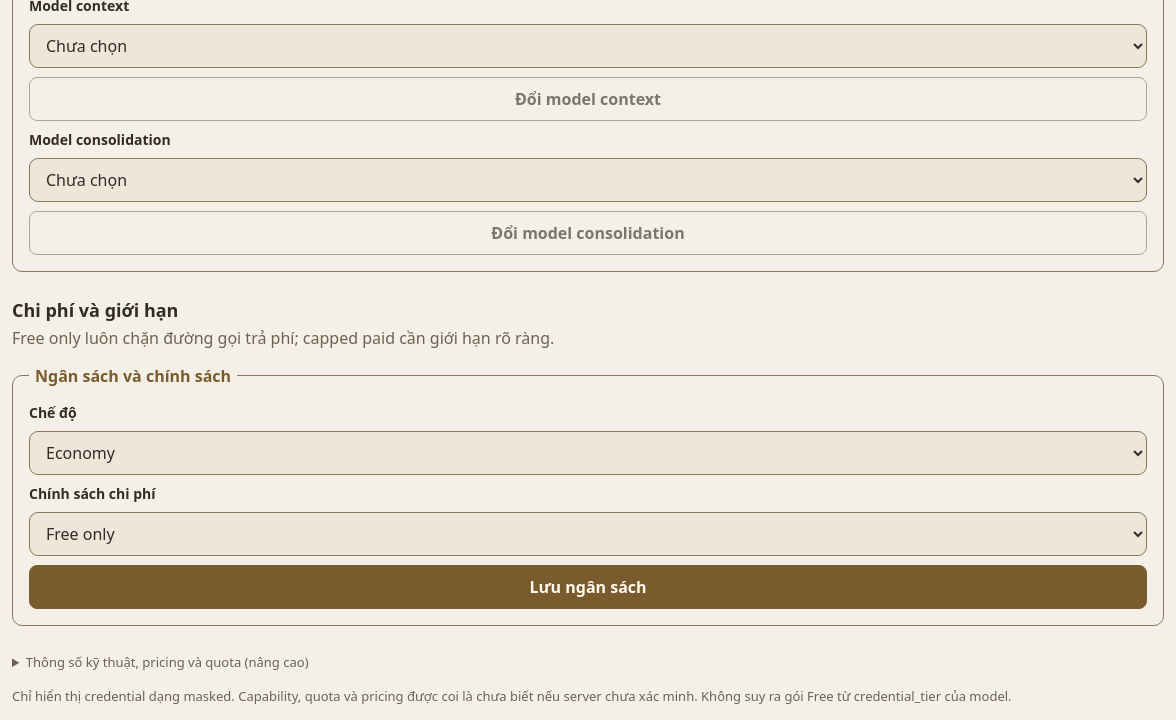
Test: SettingsPanel › keeps the independent demo note across prop changes and settings saves
(page scrolled)
Step 1. Click the button "Lưu ngân sách" → (588, 587), box [29,565,1147,609]
(page scrolled)
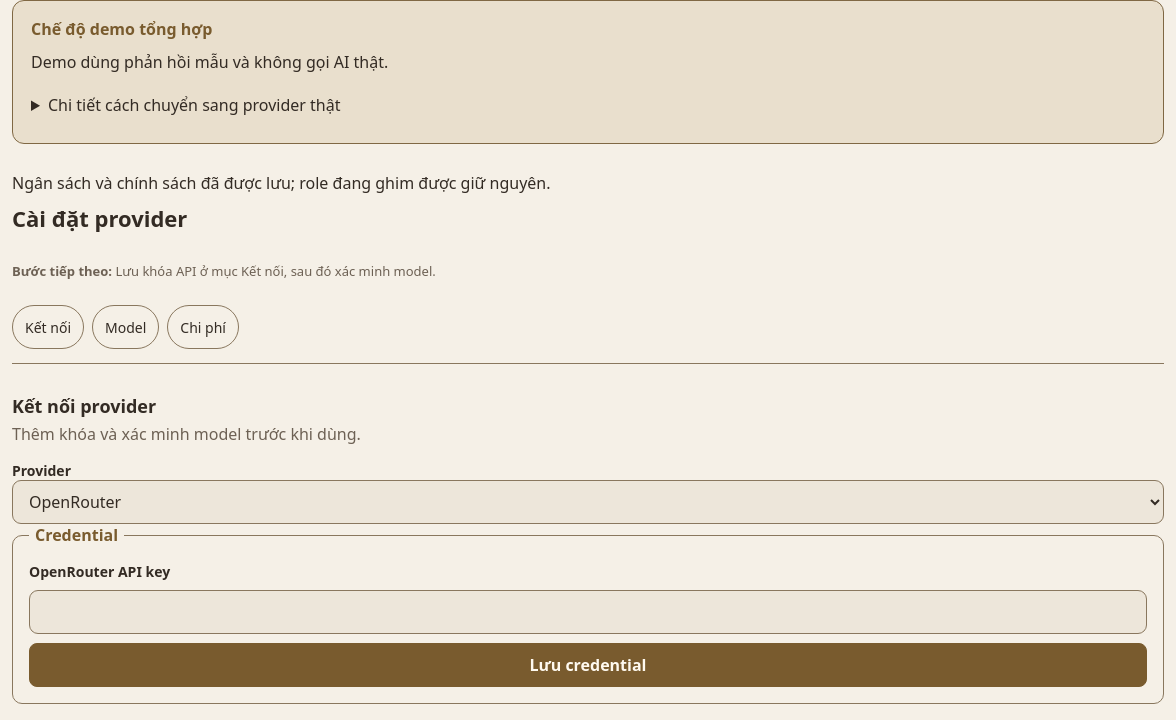
Check: the element "Chế độ demo tổng hợp" is shown, box [12,0,1164,144]
Check: the message shows "Ngân sách", box [12,172,550,194]
